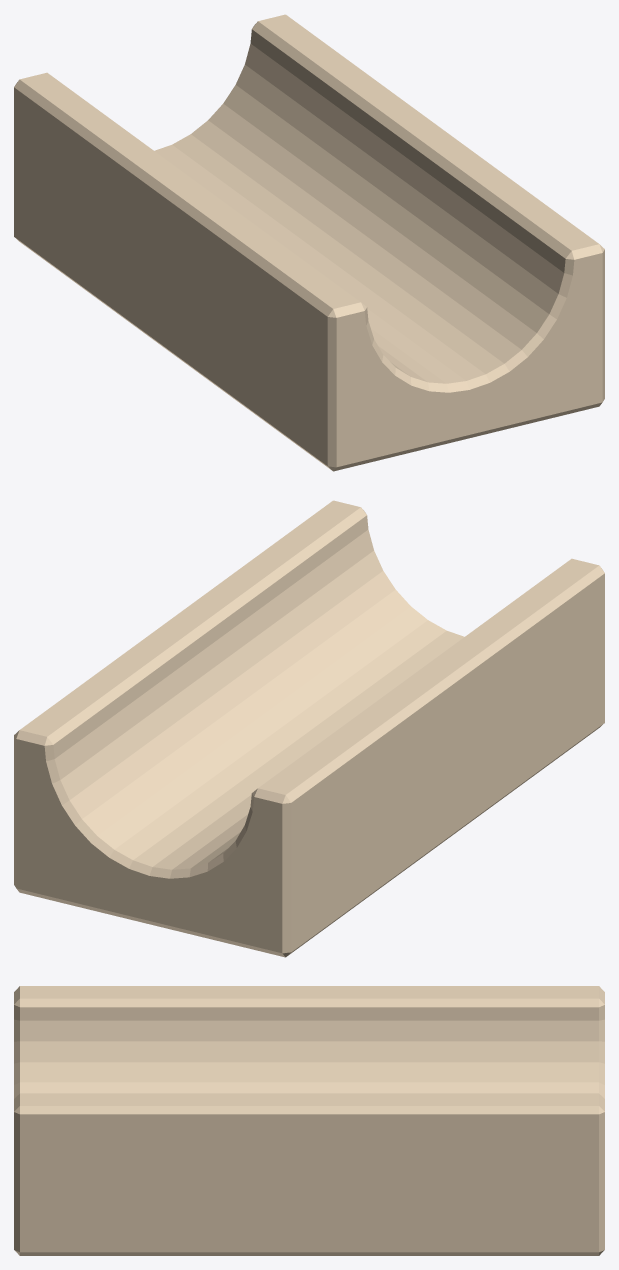
The model's file is track_straight_long_a01.glb.
The picture shows the model from 3 angles, top to bottom: view 1: azimuth 30°, elevation 25°; view 2: azimuth 150°, elevation 25°; view 3: azimuth 270°, elevation 25°; orthographic projection. The views are drawn at different scales.
Parts seen in each view (by area): view 1: Straight - Long; view 2: Straight - Long; view 3: Straight - Long.
Part boxes in pixels (box(x1,y1,x2,y2)): Straight - Long: box(14, 14, 604, 471); Straight - Long: box(14, 500, 604, 957); Straight - Long: box(14, 986, 604, 1255).
Bounding box in the file's own units: 0.9999 × 0.56 × 2.
